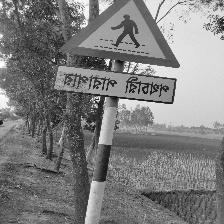Pedestrian-crossing: (53, 0, 181, 106)
